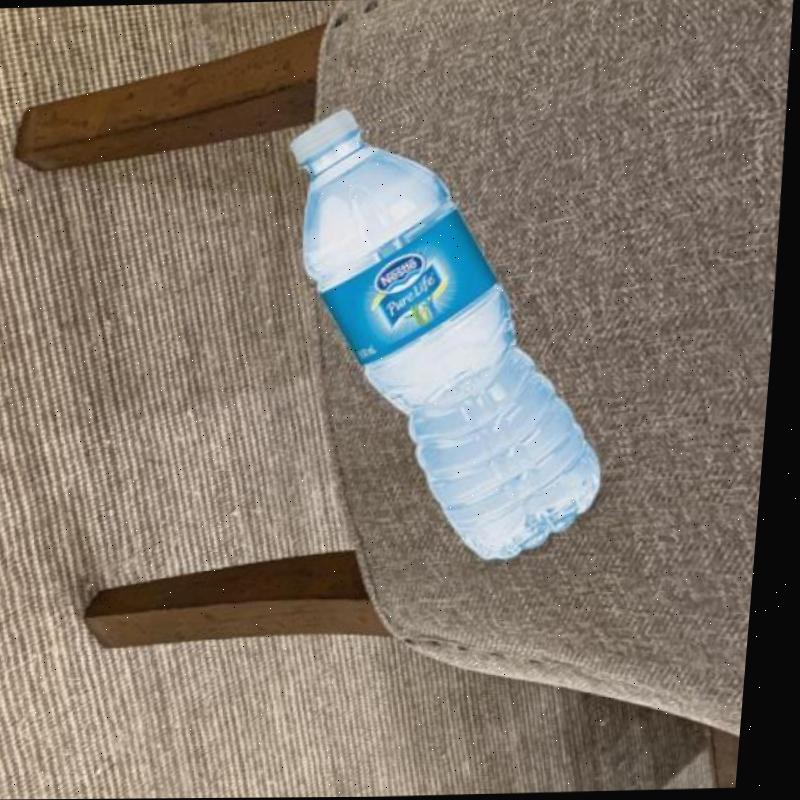botella: (265, 95, 635, 567)
